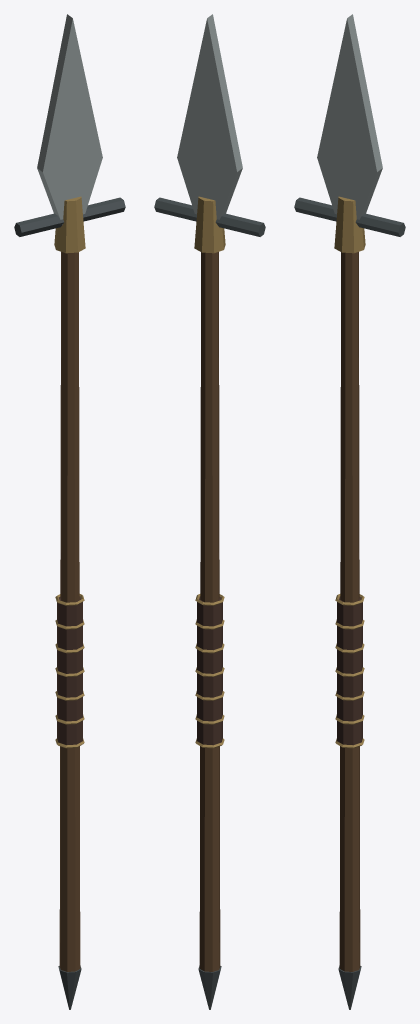
The model's file is WPN_Spear_00_AshPike.glb.
3 views of the same model, side by side, from view 1: azimuth 30°, elevation 25°; view 2: azimuth 150°, elevation 25°; view 3: azimuth 330°, elevation 25° (orthographic).
Visible parts, largest first — view 1: WPN_Spear_00_AshPike__Body; view 2: WPN_Spear_00_AshPike__Body; view 3: WPN_Spear_00_AshPike__Body.
Boxes of the visible parts, x1,y1,x2,y2 form: WPN_Spear_00_AshPike__Body: (14, 14, 125, 1009); WPN_Spear_00_AshPike__Body: (154, 14, 265, 1009); WPN_Spear_00_AshPike__Body: (294, 14, 405, 1009).
Size of the model in its own units: 0.26 by 2.37 by 0.07.
